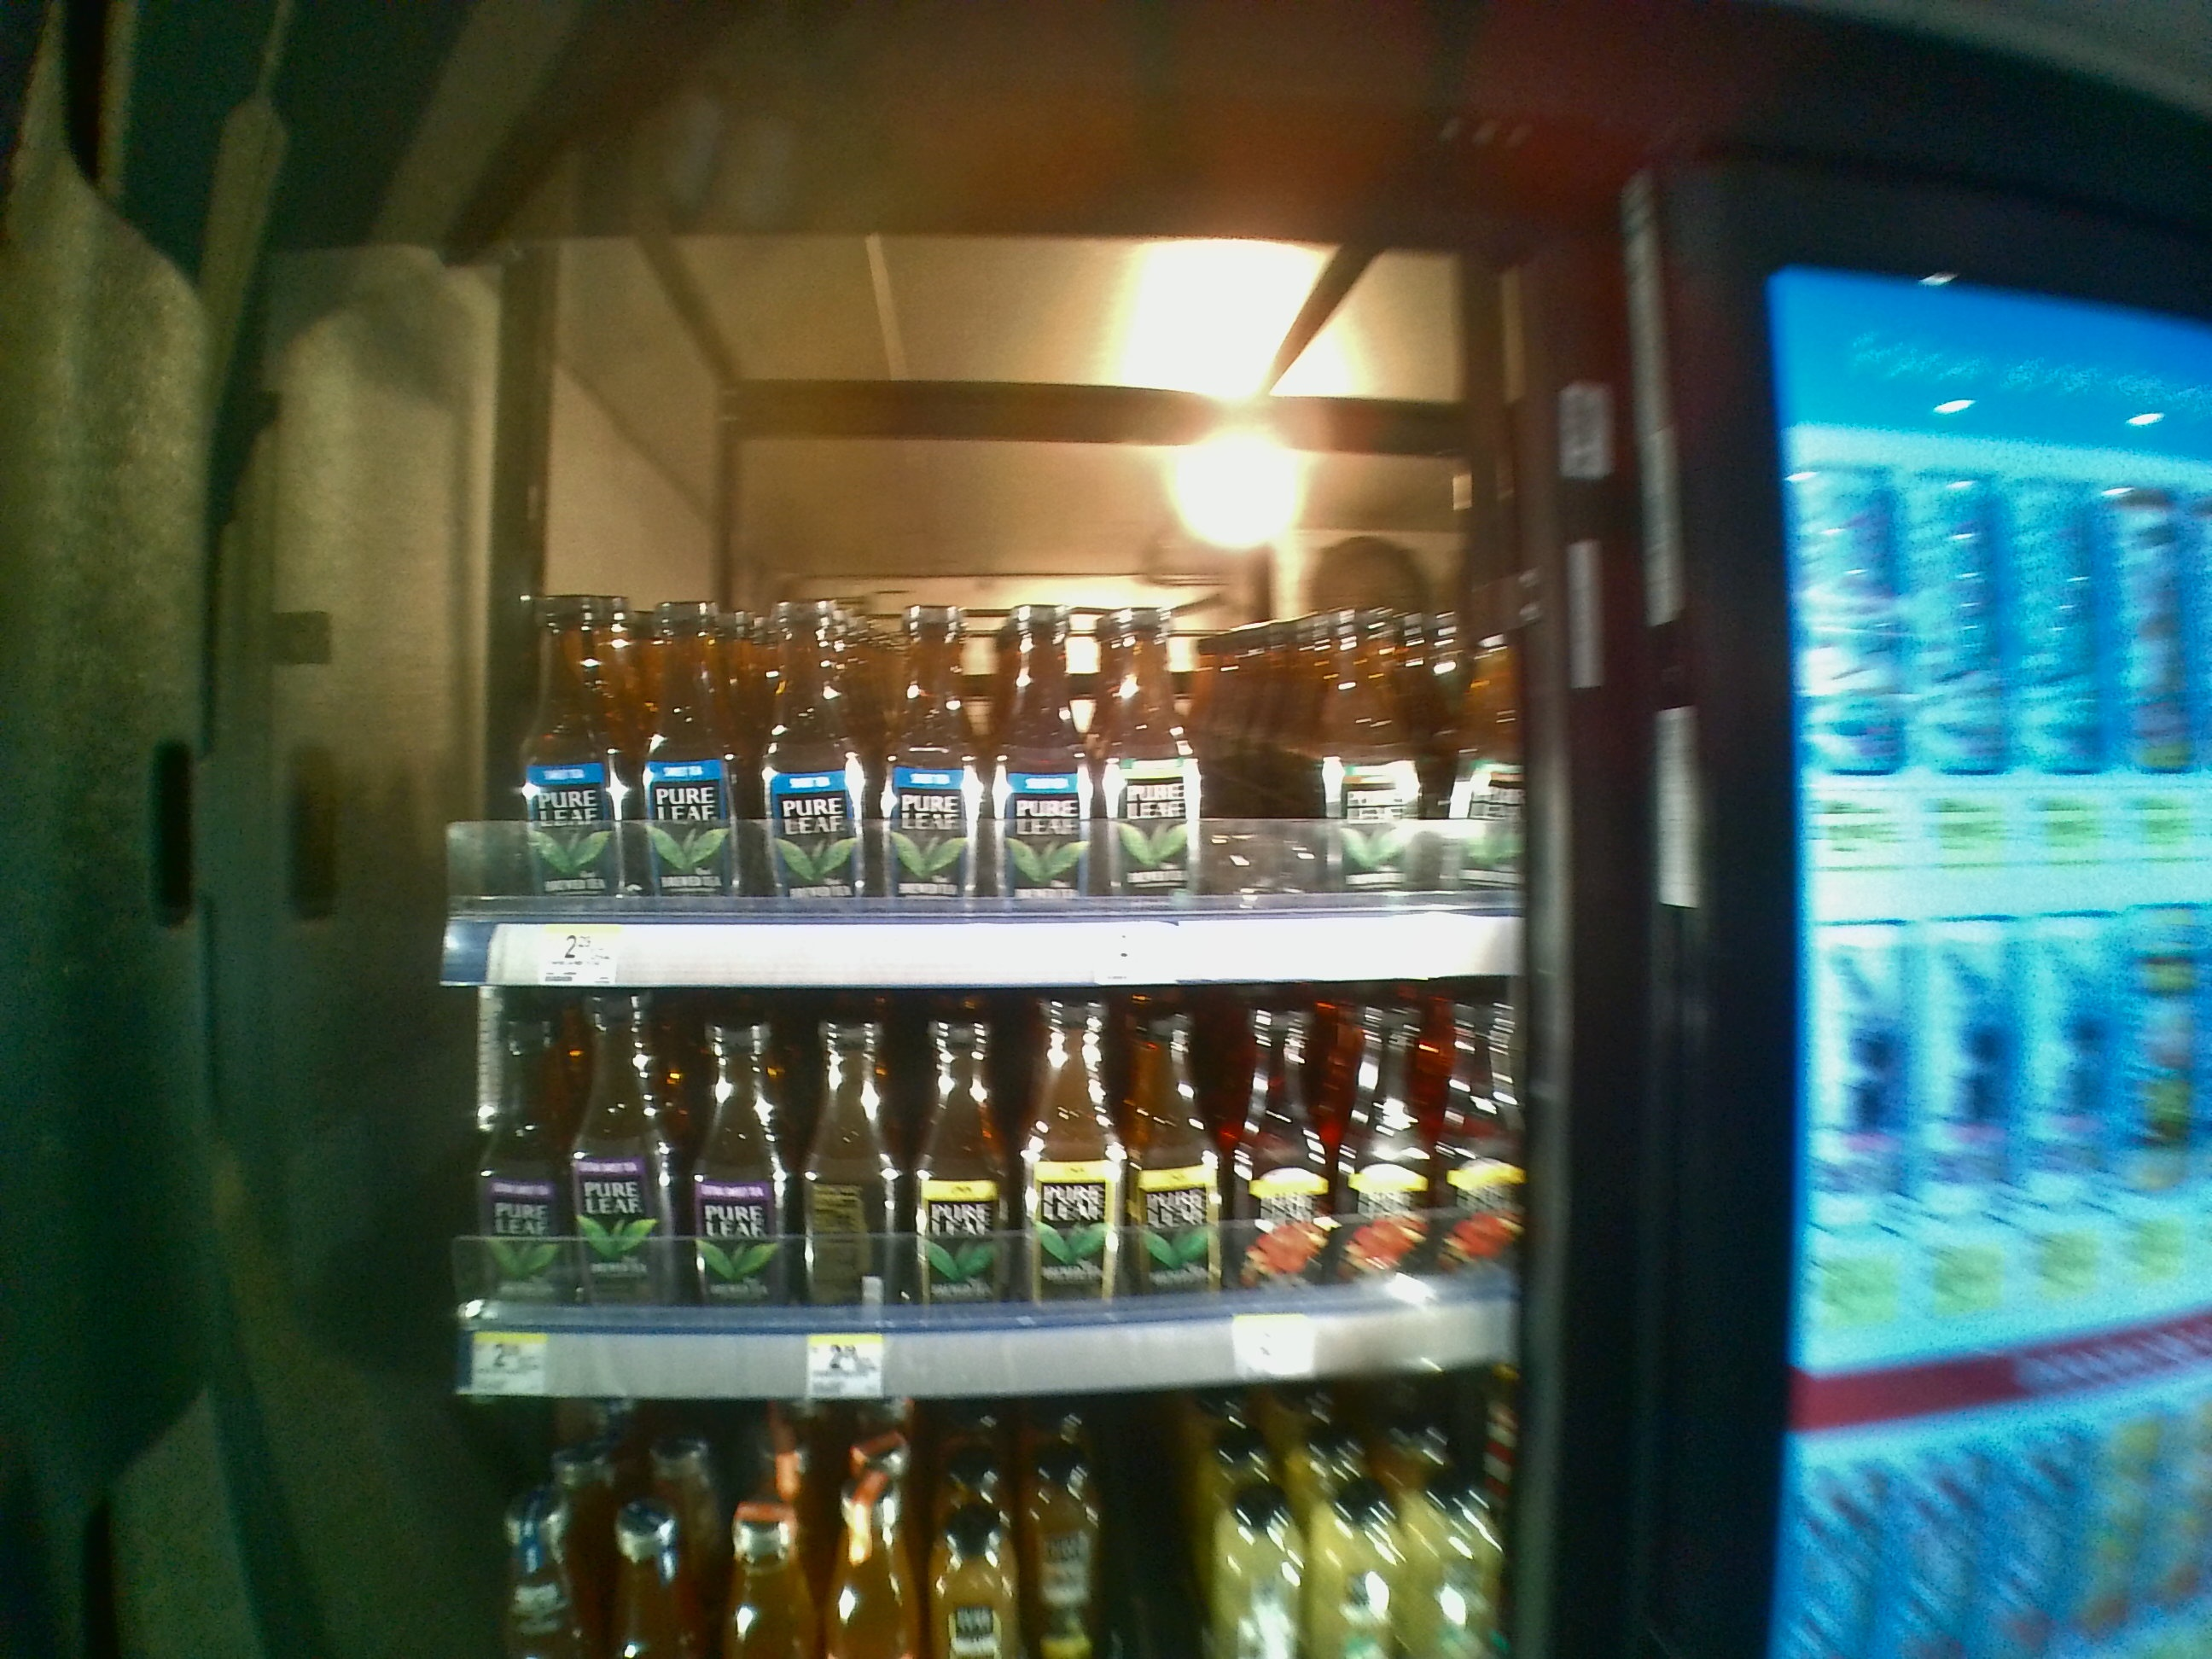shelf: (435, 408, 1524, 983), (439, 993, 1524, 1394)
